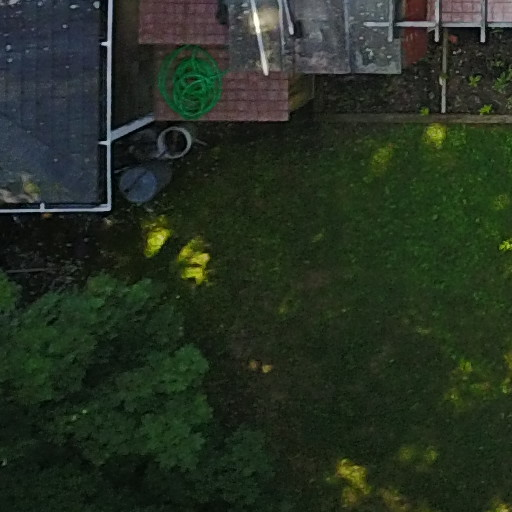container: (154, 123, 205, 163)
trash bin: (117, 160, 183, 209)
